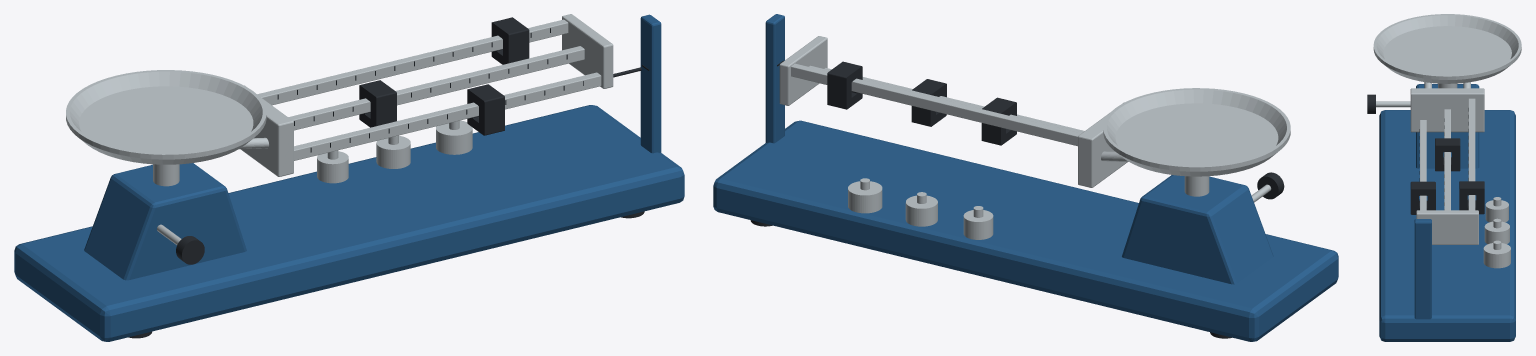
Rendered from full.glb.
3 views of the same model, side by side, from view 1: azimuth 30°, elevation 25°; view 2: azimuth 150°, elevation 25°; view 3: azimuth 270°, elevation 25° (orthographic). The views are drawn at different scales.
Parts seen in each view (by area): view 1: Long low cast base, Shallow open 152mm pan, Raised pan pedestal, Independent graduated beam 0, Independent graduated beam 2, Independent graduated beam 1, Fixed reference upright, Beam end tie, Common beam root, Sliding rider 0, Sliding rider 2, Sliding rider 1 (+5 smaller); view 2: Long low cast base, Shallow open 152mm pan, Raised pan pedestal, Independent graduated beam 2, Fixed reference upright, Common beam root, Beam end tie, Sliding rider 2, Sliding rider 1, Stored auxiliary weight 2, Sliding rider 0, Stored auxiliary weight 1 (+4 smaller); view 3: Long low cast base, Shallow open 152mm pan, Common beam root, Fixed reference upright, Beam end tie, Raised pan pedestal, Independent graduated beam 2, Sliding rider 1, Sliding rider 0, Sliding rider 2, Independent graduated beam 1, Stored auxiliary weight 2 (+5 smaller).
Boxes of the visible parts, left/top/right/bottom form: Long low cast base: left=14, top=105, right=684, bottom=341; Shallow open 152mm pan: left=66, top=70, right=266, bottom=164; Raised pan pedestal: left=84, top=163, right=246, bottom=280; Independent graduated beam 0: left=294, top=72, right=601, bottom=160; Independent graduated beam 2: left=257, top=19, right=568, bottom=105; Independent graduated beam 1: left=288, top=46, right=584, bottom=130; Fixed reference upright: left=640, top=14, right=661, bottom=153; Beam end tie: left=562, top=14, right=613, bottom=88; Common beam root: left=241, top=85, right=293, bottom=176; Sliding rider 0: left=467, top=84, right=504, bottom=135; Sliding rider 2: left=491, top=17, right=529, bottom=64; Sliding rider 1: left=359, top=80, right=396, bottom=127; Long low cast base: left=713, top=120, right=1338, bottom=341; Shallow open 152mm pan: left=1103, top=88, right=1290, bottom=176; Raised pan pedestal: left=1122, top=175, right=1273, bottom=284; Independent graduated beam 2: left=791, top=63, right=1081, bottom=146; Fixed reference upright: left=765, top=14, right=784, bottom=143; Common beam root: left=1078, top=102, right=1127, bottom=187; Beam end tie: left=779, top=36, right=827, bottom=105; Sliding rider 2: left=827, top=61, right=862, bottom=109; Sliding rider 1: left=981, top=97, right=1016, bottom=145; Stored auxiliary weight 2: left=848, top=181, right=882, bottom=213; Sliding rider 0: left=911, top=79, right=946, bottom=126; Stored auxiliary weight 1: left=905, top=195, right=937, bottom=226; Long low cast base: left=1379, top=110, right=1515, bottom=341; Shallow open 152mm pan: left=1373, top=14, right=1521, bottom=83; Common beam root: left=1410, top=88, right=1484, bottom=132; Fixed reference upright: left=1414, top=219, right=1431, bottom=319; Beam end tie: left=1416, top=210, right=1478, bottom=244; Raised pan pedestal: left=1416, top=84, right=1479, bottom=168; Independent graduated beam 2: left=1468, top=98, right=1475, bottom=210; Sliding rider 1: left=1435, top=138, right=1460, bottom=171; Sliding rider 0: left=1410, top=181, right=1435, bottom=214; Sliding rider 2: left=1459, top=181, right=1484, bottom=214; Independent graduated beam 1: left=1444, top=109, right=1450, bottom=210; Stored auxiliary weight 2: left=1483, top=243, right=1510, bottom=268.
Size of the model in its own units: 0.51 by 0.15 by 0.1585.
